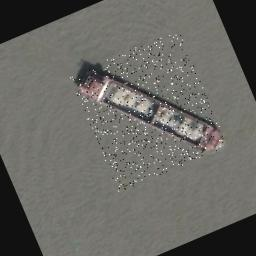boat: (68, 28, 228, 192)
